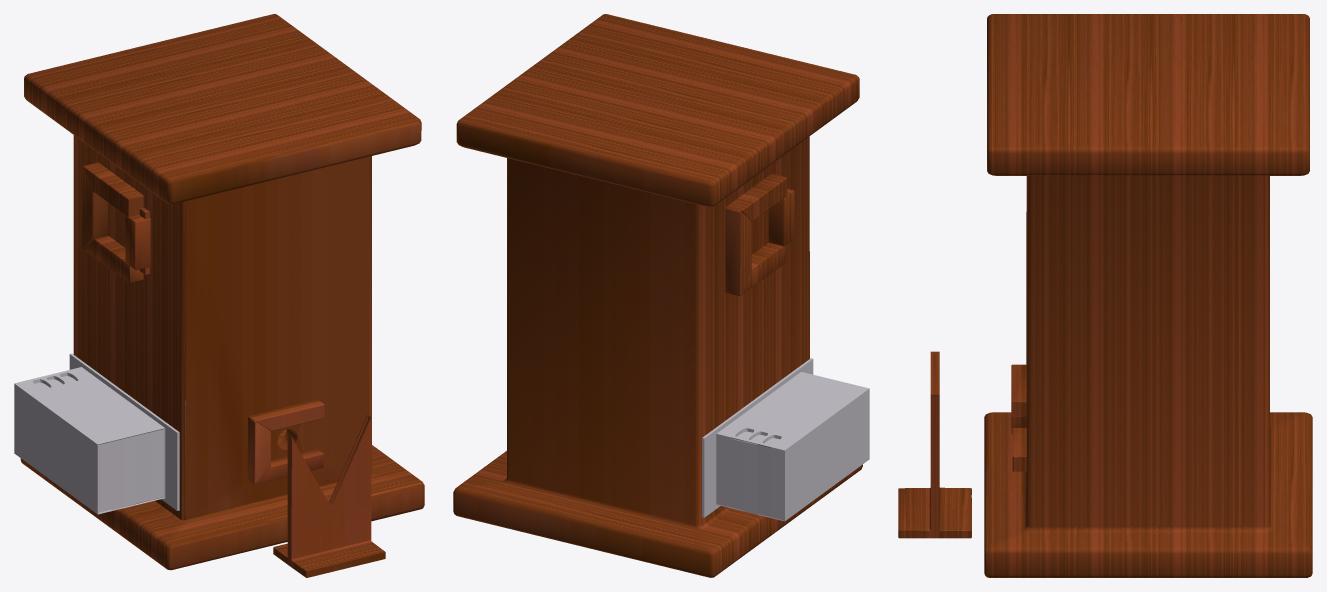
Rendered from lightsources.fbx.
The picture shows the model from 3 angles, left to right: view 1: azimuth 30°, elevation 25°; view 2: azimuth 150°, elevation 25°; view 3: azimuth 270°, elevation 25°; orthographic projection. The views are drawn at different scales.
Visible parts, largest first — view 1: Plane; view 2: Plane; view 3: Plane.
Boxes of the visible parts, x1,y1,x2,y2 form: Plane: (14, 14, 424, 577); Plane: (453, 14, 869, 577); Plane: (898, 14, 1312, 577).
Size of the model in its own units: 1020 by 1290 by 1123.
Materials: 1 (1 with a texture image).
